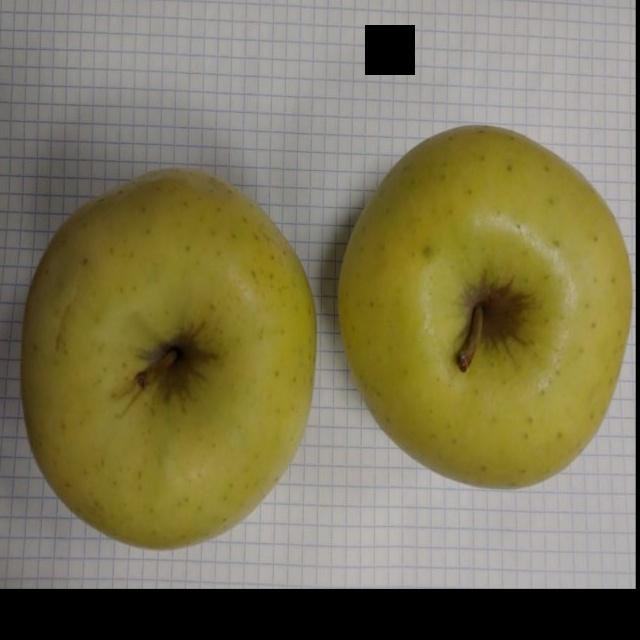green apple: (18, 159, 319, 554), (335, 124, 633, 490)
